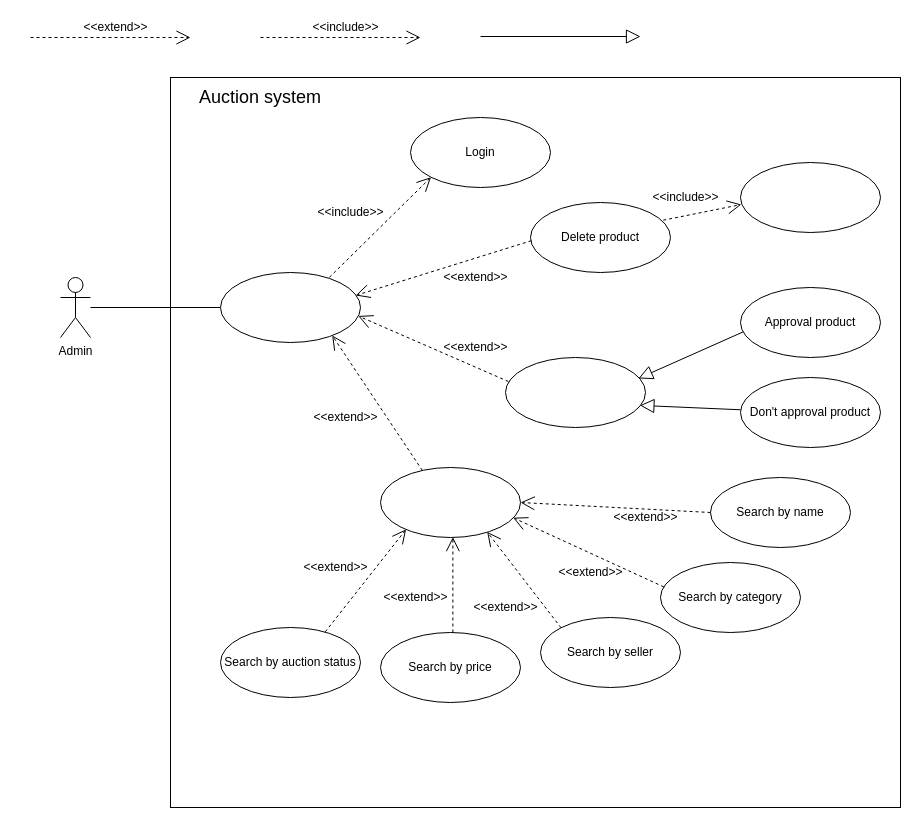
Image size: 918x825. Some labels were removed from this diagram. Here are the shapes that lost their labels. From the top down, the centre of each, then its label:
At point (810, 197): "Confirm Delete".
At point (290, 307): "View list product".
At point (575, 392): "Review product".
At point (450, 502): "Search product".
